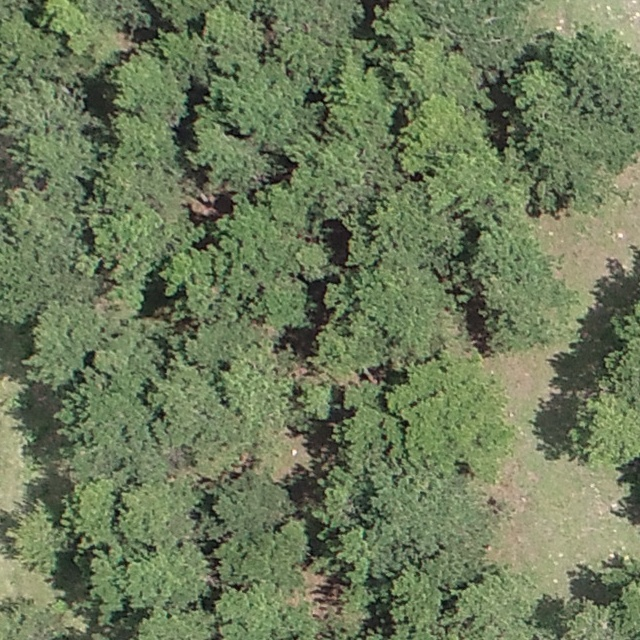unhealthy: (165, 444, 189, 467)
